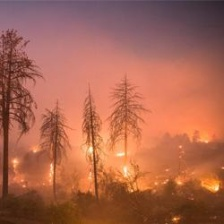fire: (9, 135, 61, 188), (79, 141, 101, 181), (114, 149, 135, 180), (199, 174, 224, 196), (199, 130, 211, 149)
